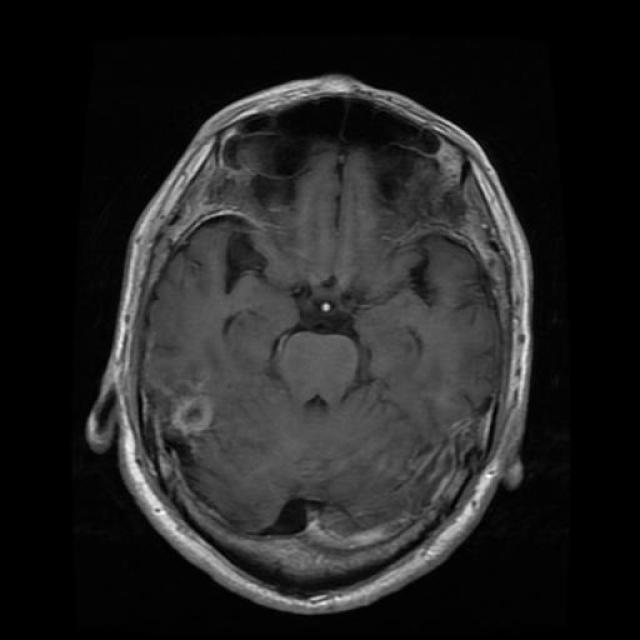brain_tumor: (181, 405, 212, 434)
